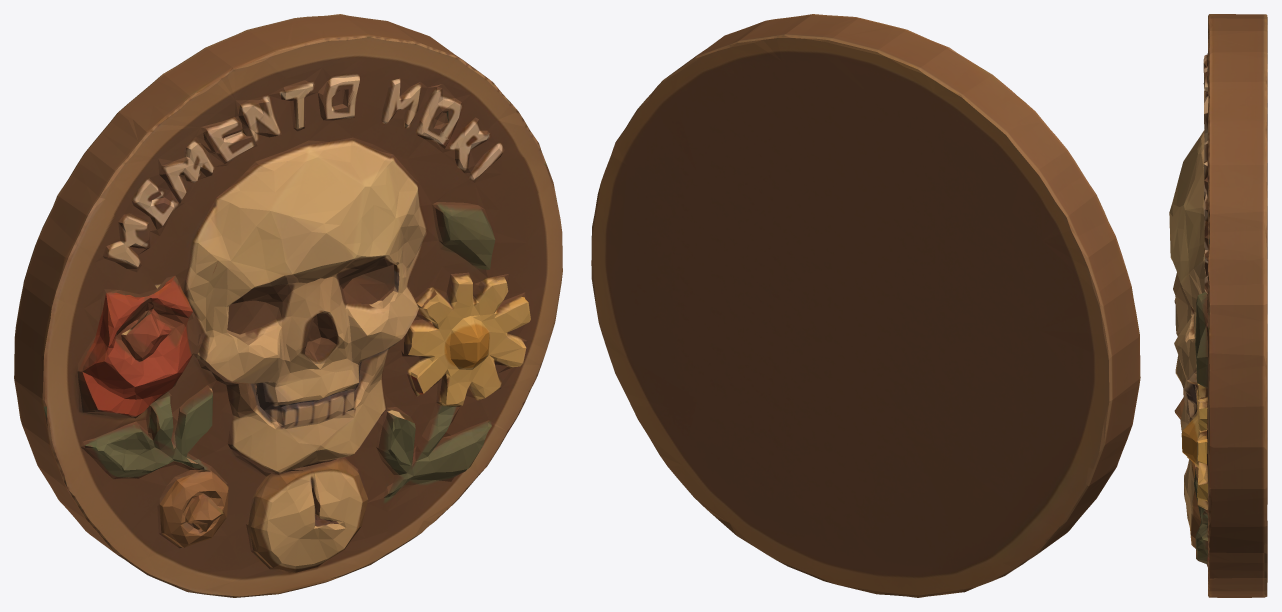
The model's file is viverechallengecoin.glb.
3 renders of one model, left to right at view 1: azimuth 30°, elevation 25°; view 2: azimuth 150°, elevation 25°; view 3: azimuth 270°, elevation 25°, orthographic. The views are drawn at different scales.
Visible parts, largest first — view 1: tmpp4q_6ety.ply; view 2: tmpp4q_6ety.ply; view 3: tmpp4q_6ety.ply.
Boxes of the visible parts, <box> form: tmpp4q_6ety.ply: <box>14,14,562,597</box>; tmpp4q_6ety.ply: <box>591,14,1140,597</box>; tmpp4q_6ety.ply: <box>1169,14,1267,597</box>.
Size of the model in its own units: 1.99 by 1.99 by 0.3378.
Materials: 1 (1 with a texture image).
